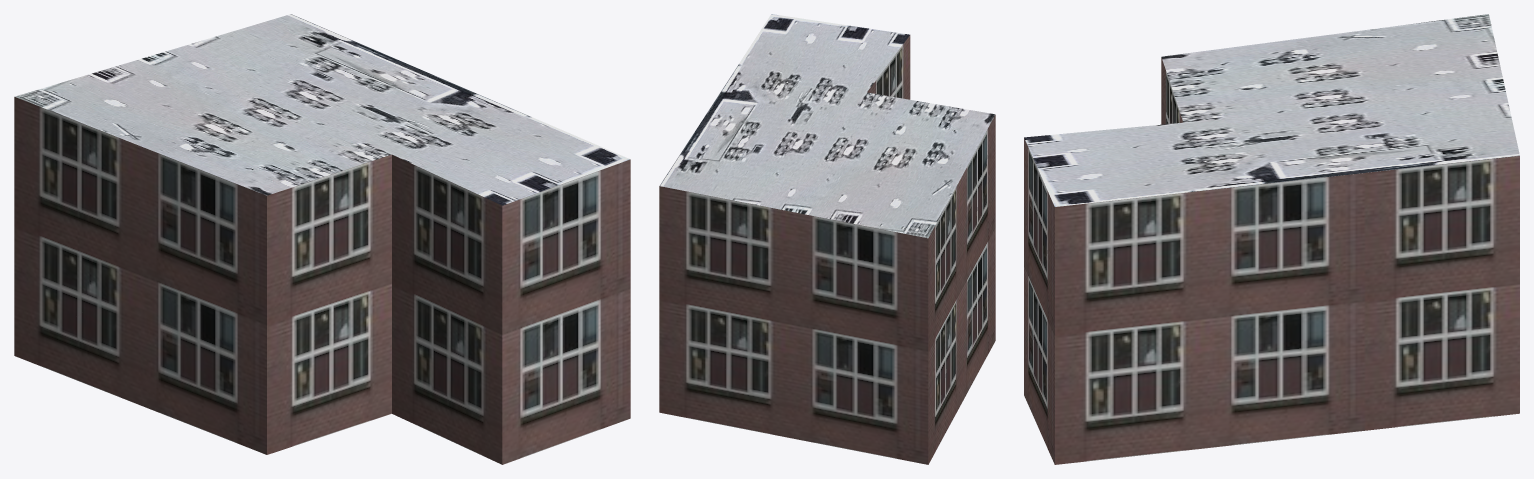
File: ResTex__2682.fbx
The picture shows the model from 3 angles, left to right: view 1: azimuth 30°, elevation 25°; view 2: azimuth 150°, elevation 25°; view 3: azimuth 270°, elevation 25°; orthographic projection. The views are drawn at different scales.
Visible parts, largest first — view 1: CityEngineMaterial_12_m, CityEngineMaterial_4_m; view 2: CityEngineMaterial_12_m, CityEngineMaterial_4_m; view 3: CityEngineMaterial_12_m, CityEngineMaterial_4_m.
Part boxes in pixels (bbox=[...]): CityEngineMaterial_12_m: bbox=[14, 97, 630, 464]; CityEngineMaterial_4_m: bbox=[15, 14, 629, 205]; CityEngineMaterial_12_m: bbox=[659, 35, 995, 464]; CityEngineMaterial_4_m: bbox=[659, 14, 995, 238]; CityEngineMaterial_12_m: bbox=[1024, 57, 1519, 464]; CityEngineMaterial_4_m: bbox=[1024, 14, 1519, 206].
Bounding box in the file's own units: 9.64 × 6 × 10.46.
Materials: 2 (2 with a texture image).
